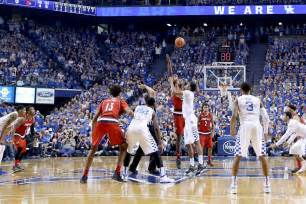basketball: (174, 37, 184, 47)
